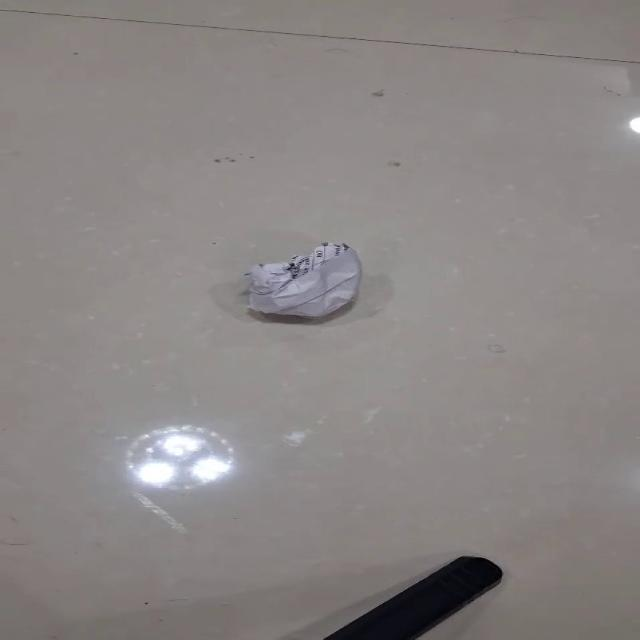paper: (244, 240, 362, 319)
